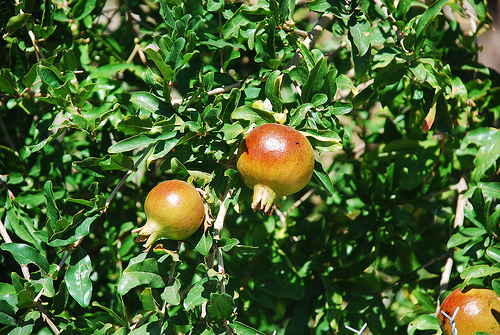pomogranate: (235, 123, 315, 213), (130, 180, 203, 247), (437, 286, 499, 333)
